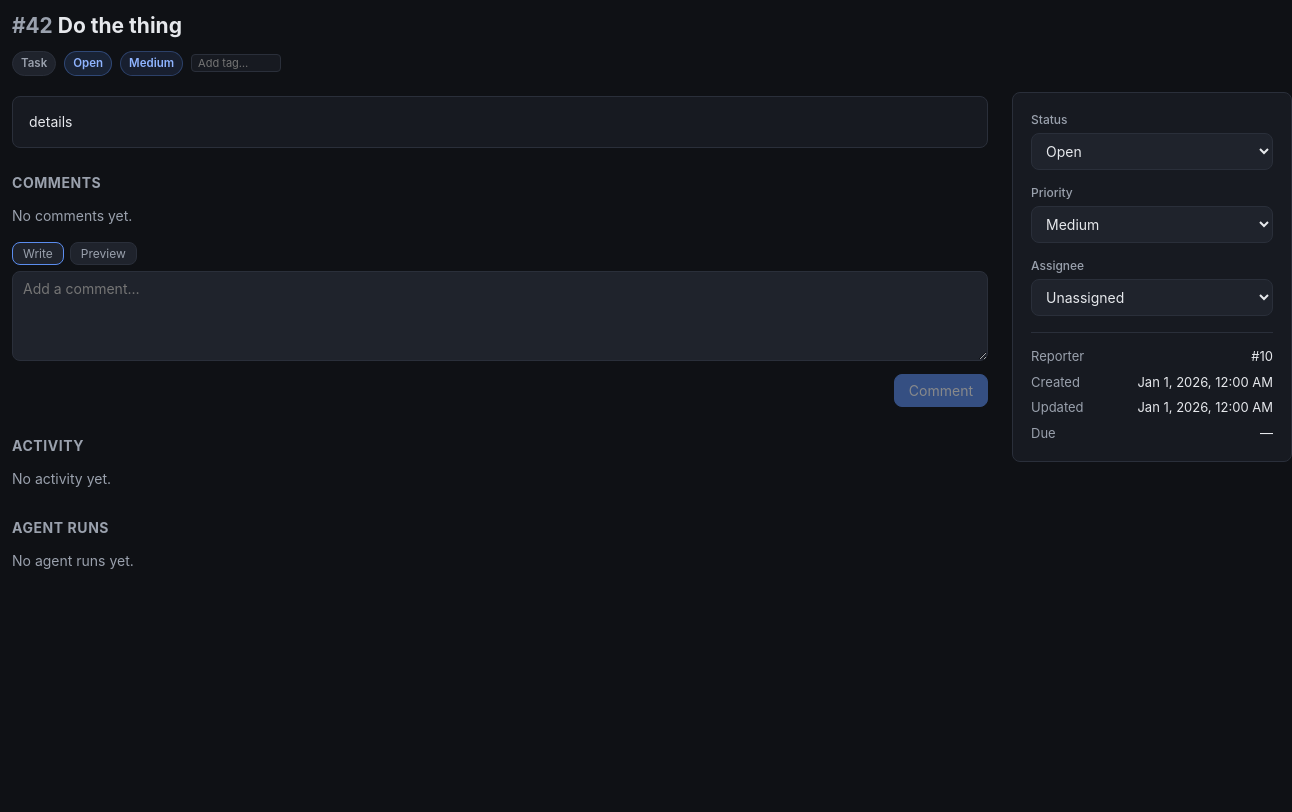
Test: TicketDetail markdown rendering › previews the comment draft as markdown
Expected: the heading "#42 Do the thing" is shown, [12,13,182,38]
In the text box with placeholder "Add a comment…": (500, 316) [12,271,988,361], type "a **bold** draft"
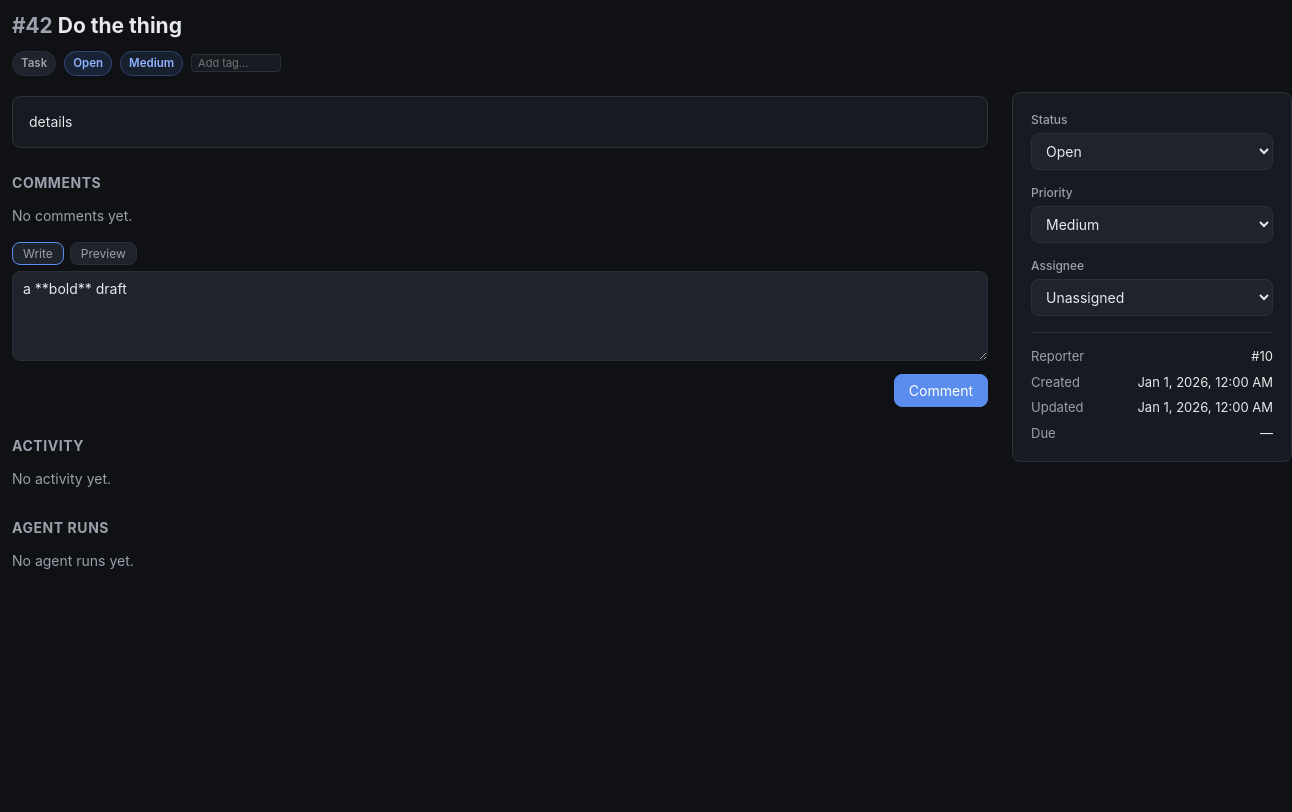
Click the tab "Preview": (103, 254) [70,242,137,265]
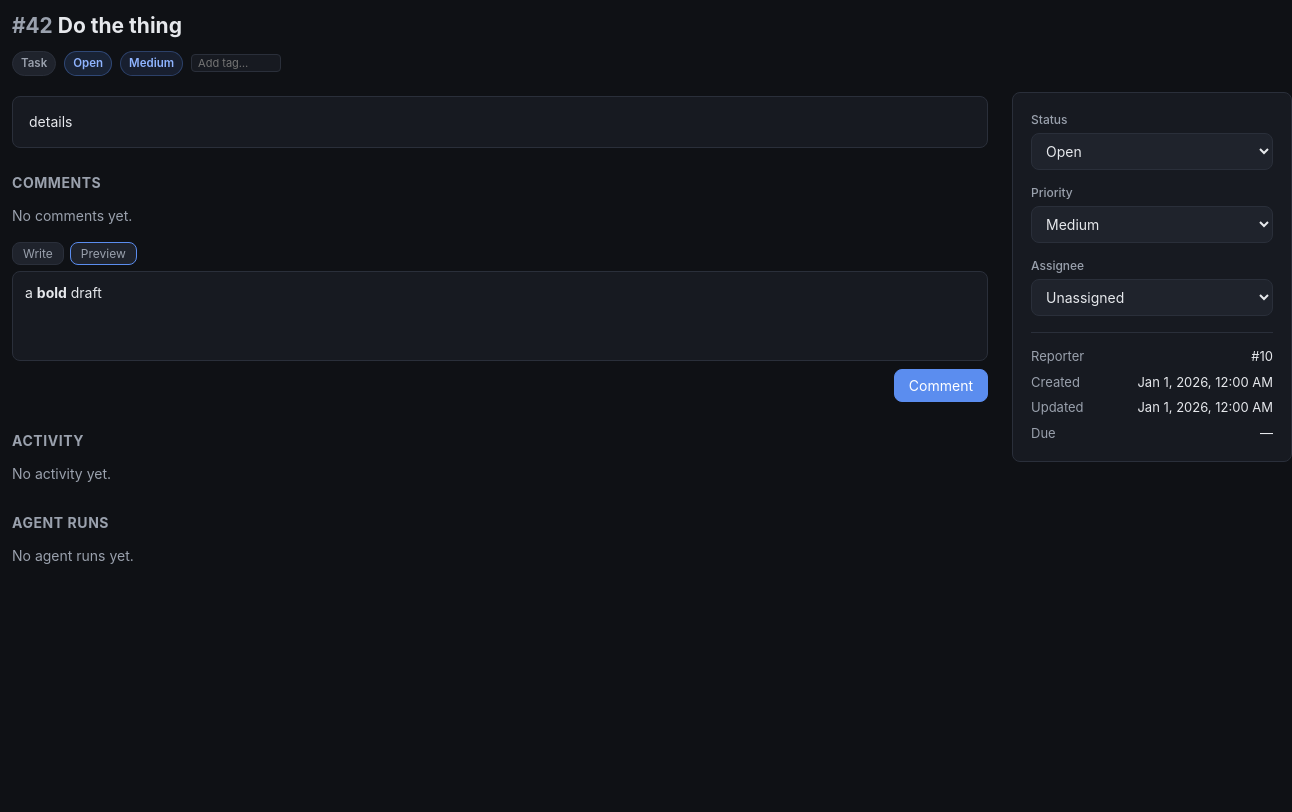
Expected: the field with placeholder "Add a comment…" is not shown
Click the tab "Write": (38, 254) [12,242,64,265]
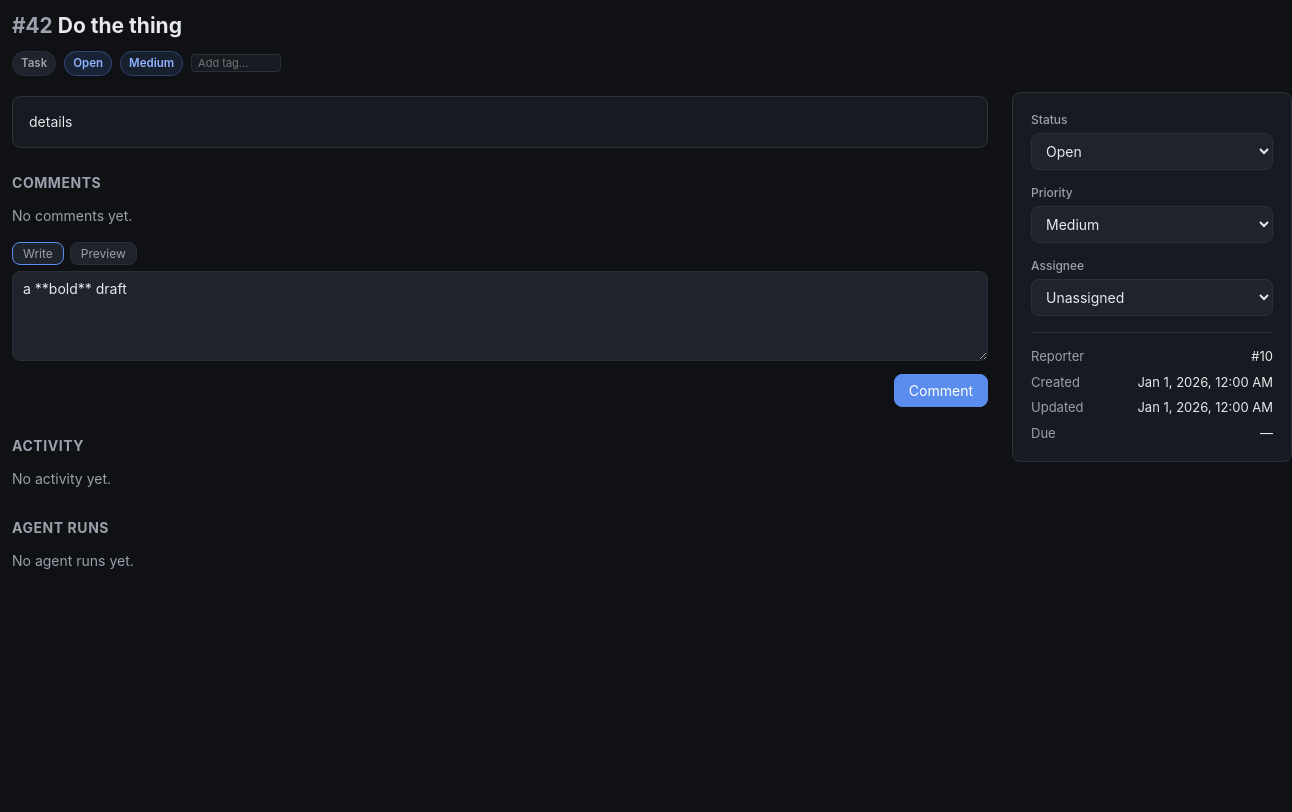
Now the text box with placeholder "Add a comment…" holds "a **bold** draft", box [12,271,988,361]
